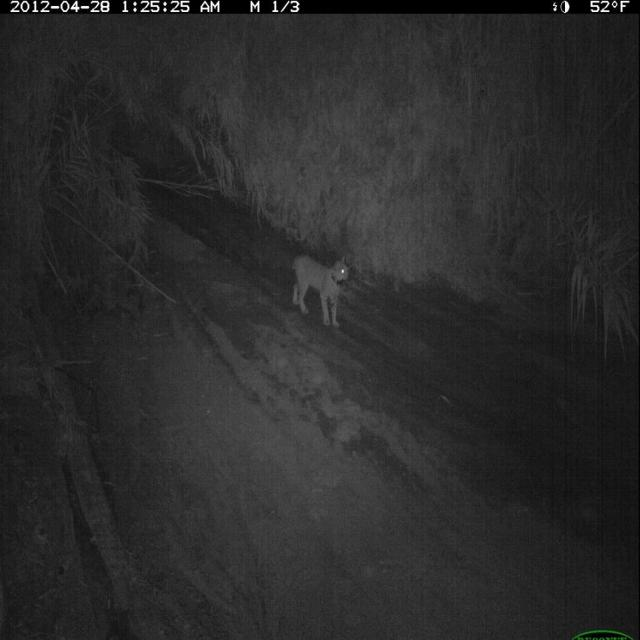bobcat: (290, 250, 359, 332)
